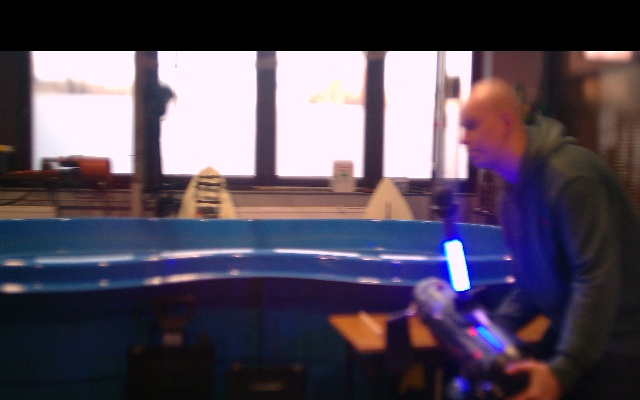blue: (444, 240, 470, 293)
